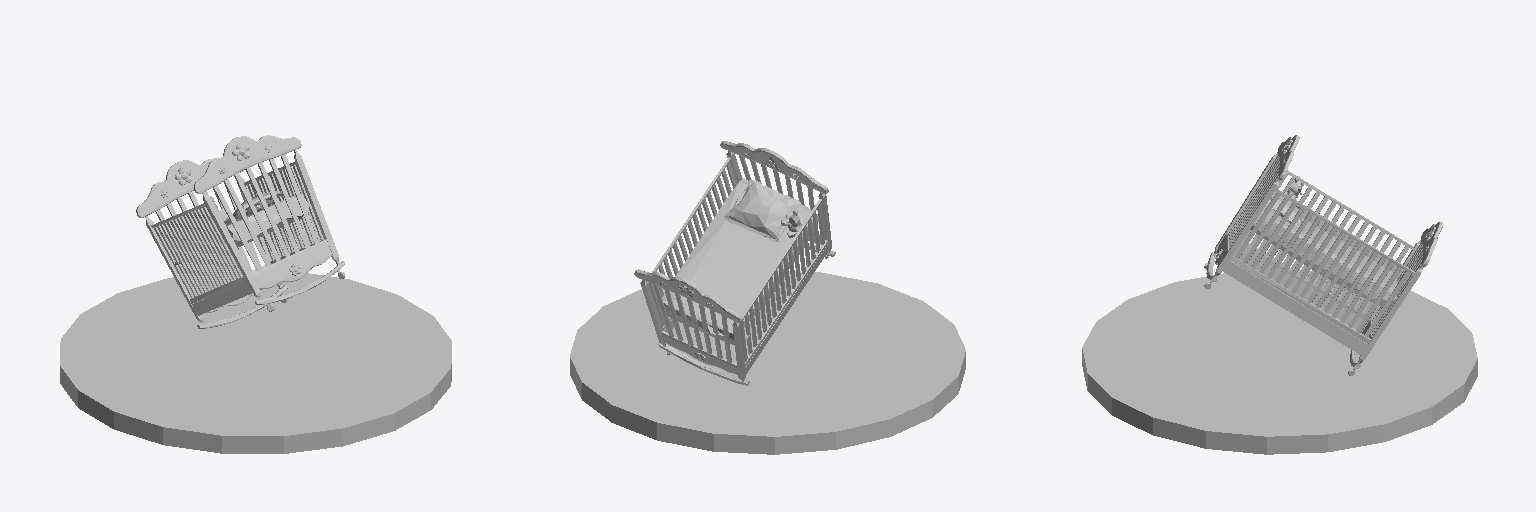
The model's file is 1.1 crib.obj.
3 renders of one model, left to right at view 1: azimuth 30°, elevation 25°; view 2: azimuth 150°, elevation 25°; view 3: azimuth 270°, elevation 25°, orthographic.
Parts seen in each view (by area): view 1: pCylinder1, Baby_Cradle1_Box01_003_Box01_003_wood, Baby_Cradle1_Box01_003_Box01_003_Mat02; view 2: pCylinder1, Baby_Cradle1_Box01_003_Box01_003_wood, Baby_Cradle1_Box01_003_Box01_003_Mat02, Baby_Cradle1_Box01_003_Box01_003_Mat01; view 3: pCylinder1, Baby_Cradle1_Box01_003_Box01_003_wood, Baby_Cradle1_Box01_003_Box01_003_Mat02.
Part boxes in pixels (bbox=[...]): pCylinder1: bbox=[60, 270, 451, 453]; Baby_Cradle1_Box01_003_Box01_003_wood: bbox=[136, 135, 344, 328]; Baby_Cradle1_Box01_003_Box01_003_Mat02: bbox=[175, 194, 308, 264]; pCylinder1: bbox=[570, 271, 965, 454]; Baby_Cradle1_Box01_003_Box01_003_wood: bbox=[634, 141, 835, 385]; Baby_Cradle1_Box01_003_Box01_003_Mat02: bbox=[662, 179, 818, 344]; Baby_Cradle1_Box01_003_Box01_003_Mat01: bbox=[724, 179, 800, 241]; pCylinder1: bbox=[1082, 270, 1477, 454]; Baby_Cradle1_Box01_003_Box01_003_wood: bbox=[1204, 135, 1442, 375]; Baby_Cradle1_Box01_003_Box01_003_Mat02: bbox=[1250, 205, 1397, 310].
Bounding box in the file's own units: 628 × 404 × 628.